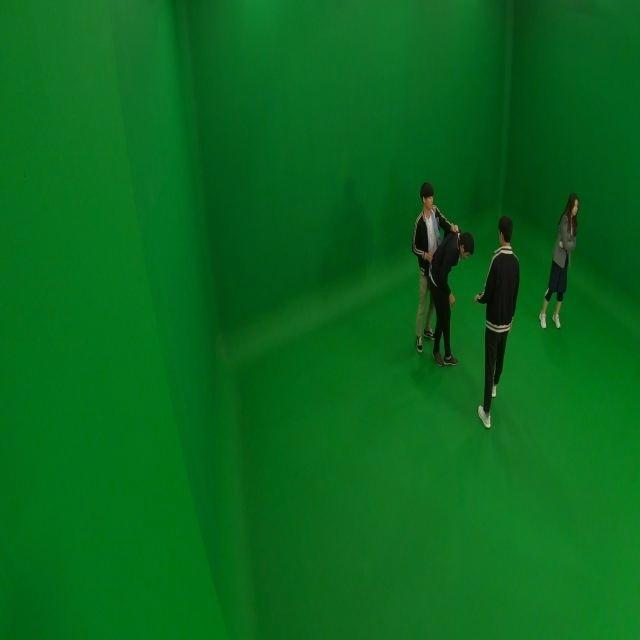fight: (410, 180, 470, 365)
non-fight: (474, 214, 519, 431), (541, 191, 578, 330)
